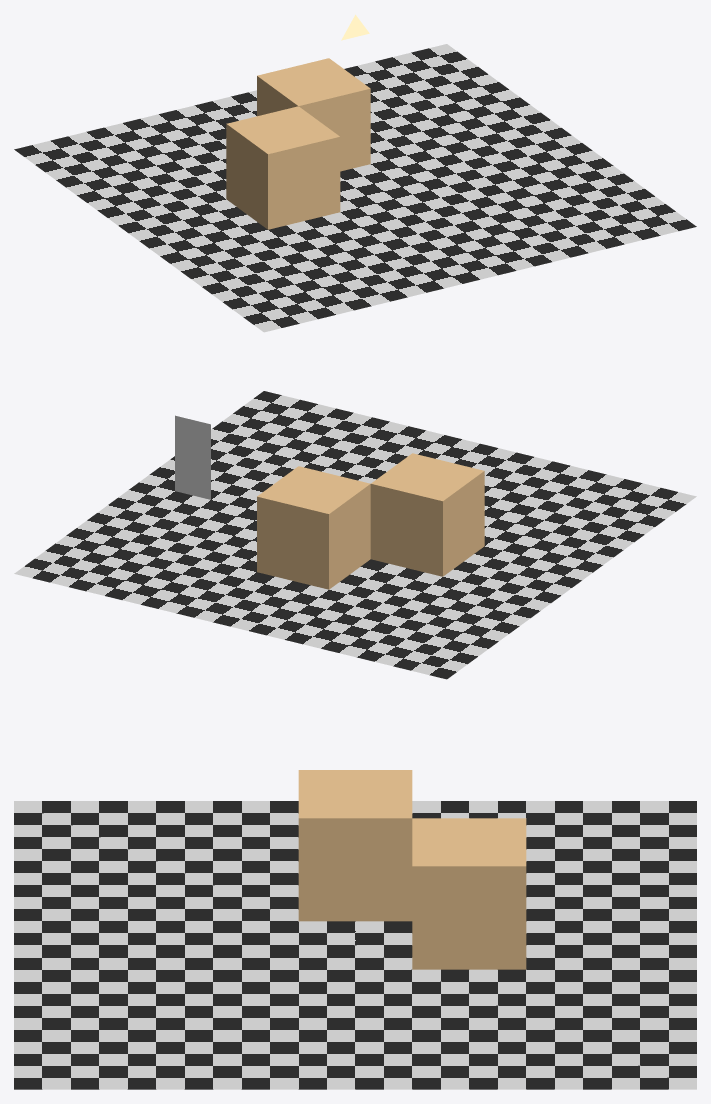
The picture shows the model from 3 angles, top to bottom: view 1: azimuth 30°, elevation 25°; view 2: azimuth 150°, elevation 25°; view 3: azimuth 270°, elevation 25°; orthographic projection. The views are drawn at different scales.
Visible parts, largest first — view 1: Floor, CubeA, CubeMirrored; view 2: Floor, CubeA, CubeMirrored, Strip; view 3: Floor, CubeMirrored, CubeA.
Part boxes in pixels (x1,y1,x2,y2): Floor: (14, 44, 696, 332); CubeA: (226, 106, 340, 229); CubeMirrored: (257, 58, 370, 171); Floor: (14, 391, 696, 679); CubeA: (370, 453, 484, 576); CubeMirrored: (257, 466, 370, 589); Strip: (175, 415, 210, 499); Floor: (14, 801, 696, 1089); CubeMirrored: (412, 818, 526, 969); CubeA: (298, 770, 412, 921).
Size of the model in its own units: 6 by 2.3 by 6.
Materials: 3 (1 with a texture image).
